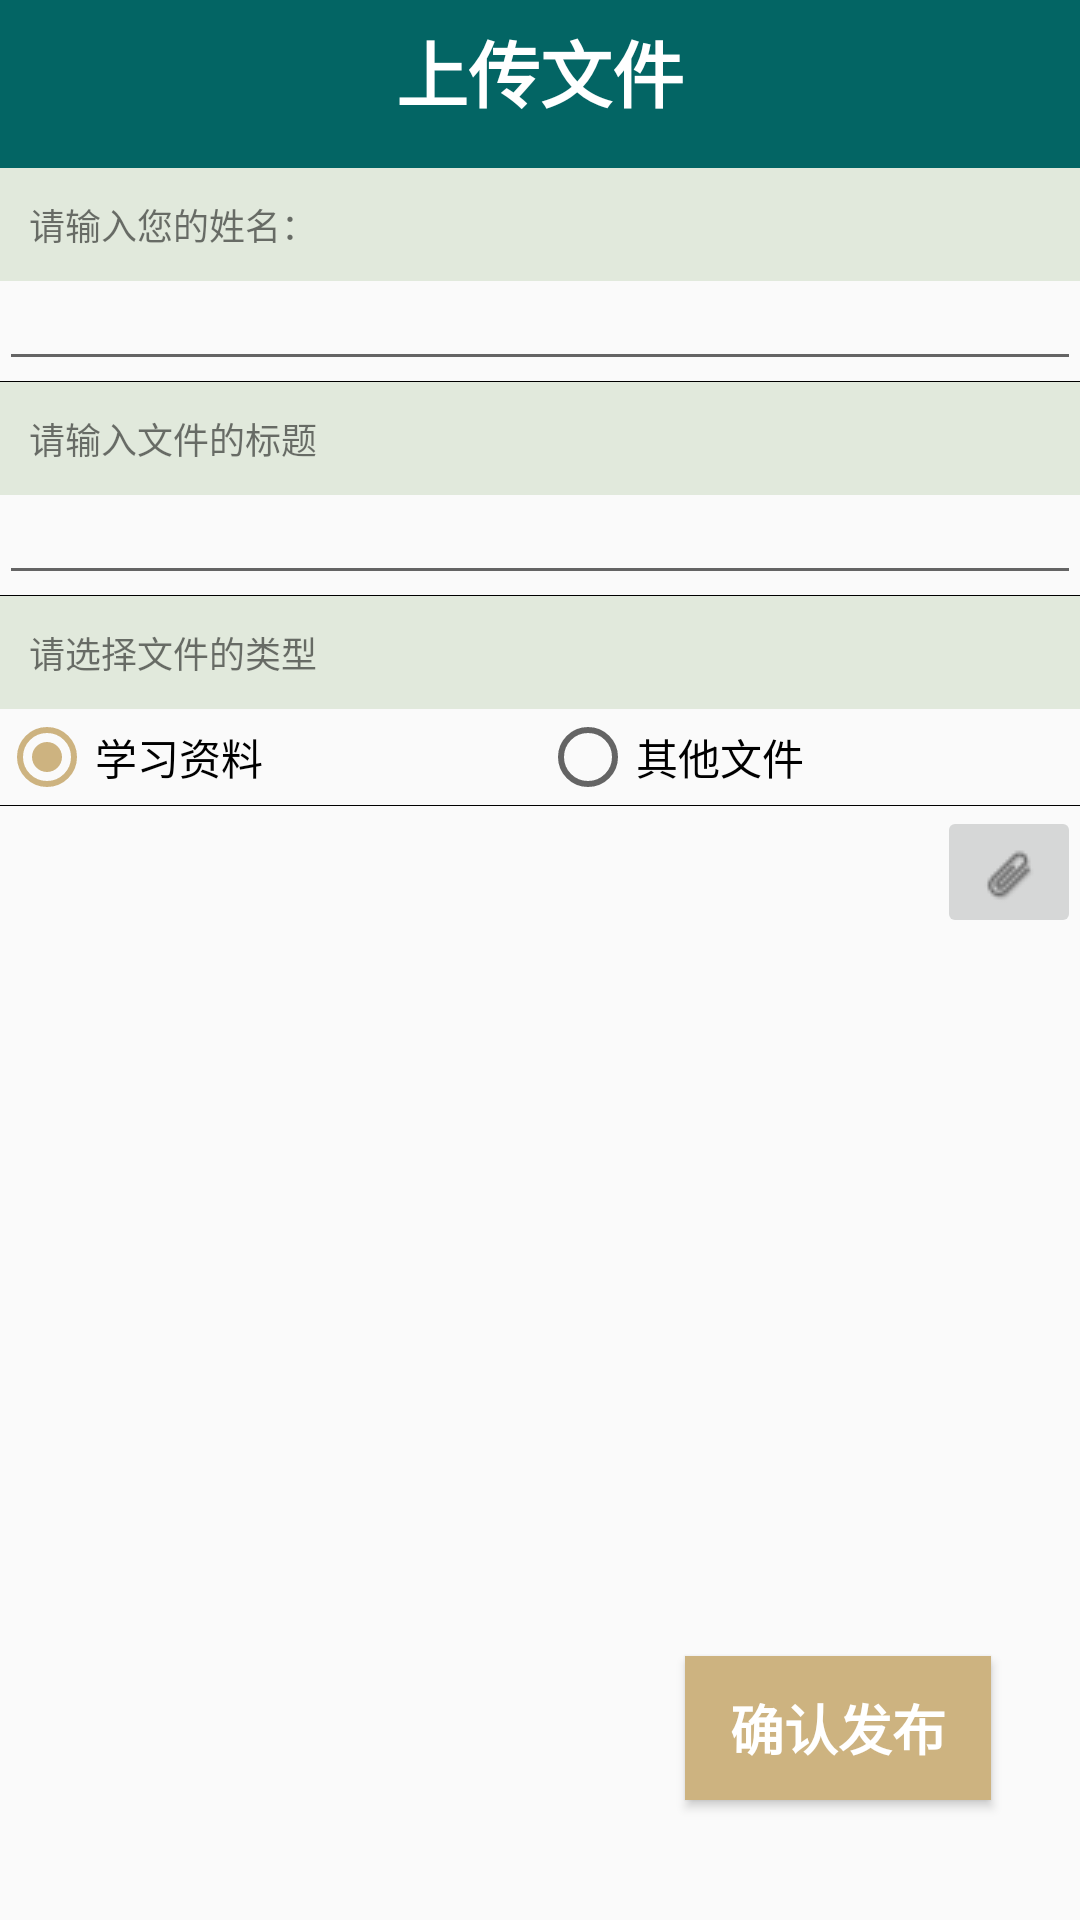

Screen size 1080 x 1920. Icon name, then its center in pixels as point (x, y):
file: point (1009, 872)
